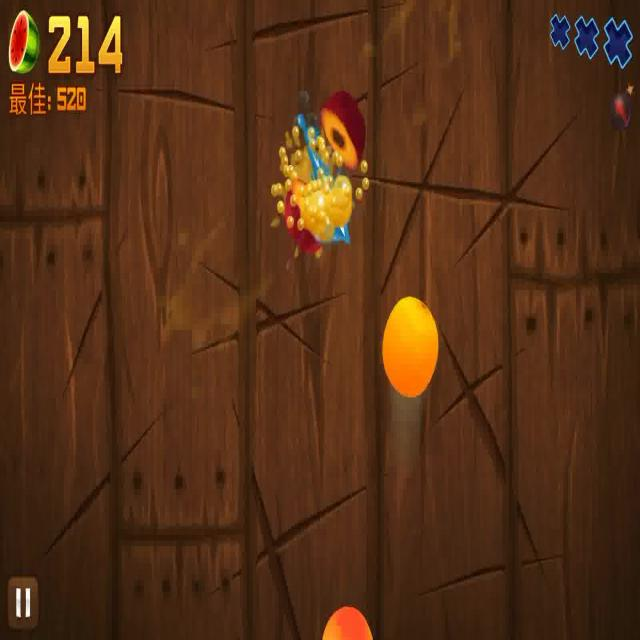fruit: (382, 295, 438, 395), (283, 180, 332, 255), (321, 92, 365, 171), (323, 602, 377, 640)
